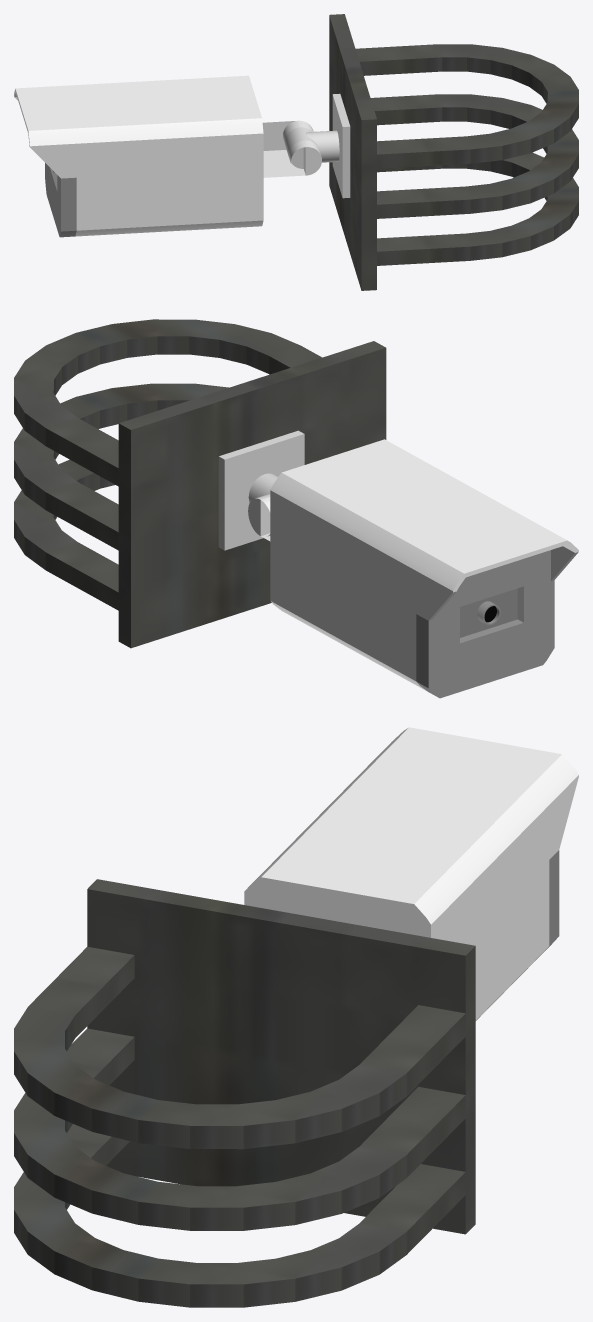
The model's file is camera-ip.glb.
3 renders of one model, top to bottom at view 1: azimuth 30°, elevation 25°; view 2: azimuth 150°, elevation 25°; view 3: azimuth 270°, elevation 25°, orthographic. The views are drawn at different scales.
Parts seen in each view (by area): view 1: Componente_13_1, Al_a1, Al_a3, Componente_1_1, Al_a2, Componente_11_1, Componente_12_1, Componente_9_1; view 2: Componente_1_1, Componente_13_1, Al_a1, Componente_9_1, Al_a3, Al_a2, Componente_11_1, Componente_12_1; view 3: Componente_1_1, Componente_13_1, Al_a1, Al_a3, Al_a2, Componente_9_1.
Part boxes in pixels (bbox=[...]): Componente_13_1: bbox=[14, 75, 263, 236]; Al_a1: bbox=[355, 44, 578, 168]; Al_a3: bbox=[370, 94, 578, 218]; Componente_1_1: bbox=[329, 14, 376, 290]; Al_a2: bbox=[377, 152, 578, 265]; Componente_11_1: bbox=[285, 93, 350, 198]; Componente_12_1: bbox=[262, 120, 321, 177]; Componente_9_1: bbox=[45, 163, 76, 237]; Componente_1_1: bbox=[118, 341, 386, 648]; Componente_13_1: bbox=[270, 439, 578, 690]; Al_a1: bbox=[14, 319, 321, 486]; Componente_9_1: bbox=[416, 550, 554, 698]; Al_a3: bbox=[14, 383, 228, 550]; Al_a2: bbox=[14, 459, 118, 610]; Componente_11_1: bbox=[218, 430, 304, 550]; Componente_12_1: bbox=[248, 494, 270, 541]; Componente_1_1: bbox=[87, 879, 475, 1234]; Componente_13_1: bbox=[244, 727, 578, 1020]; Al_a1: bbox=[14, 946, 465, 1149]; Al_a3: bbox=[14, 1028, 465, 1230]; Al_a2: bbox=[14, 1124, 465, 1307]; Componente_9_1: bbox=[545, 850, 559, 950].
Size of the model in its own units: 0.3521 by 0.12 by 0.2205.
8 materials, 1 textured.
